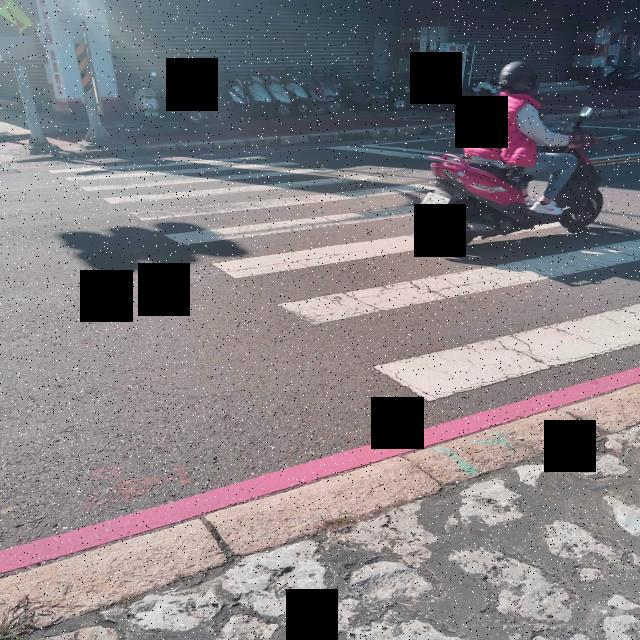zebra_crossing: (47, 155, 639, 401), (463, 61, 578, 215)
